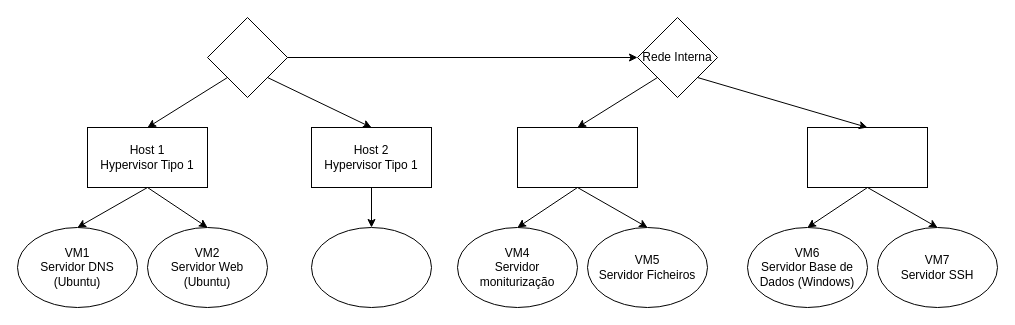
Image size: 1015x325. Some labels were removed from this diagram. Here are the shapes that lost their labels. From the top down, the centre of each, then its label:
At (247,57): "Rede DNZ".
At (577,157): "Host 3 Hypervisor Tipo 2".
At (867,157): "Host 4 Hypervisor Tipo 2".
At (371,267): "VM3 Servidor Email (Ubuntu)".
